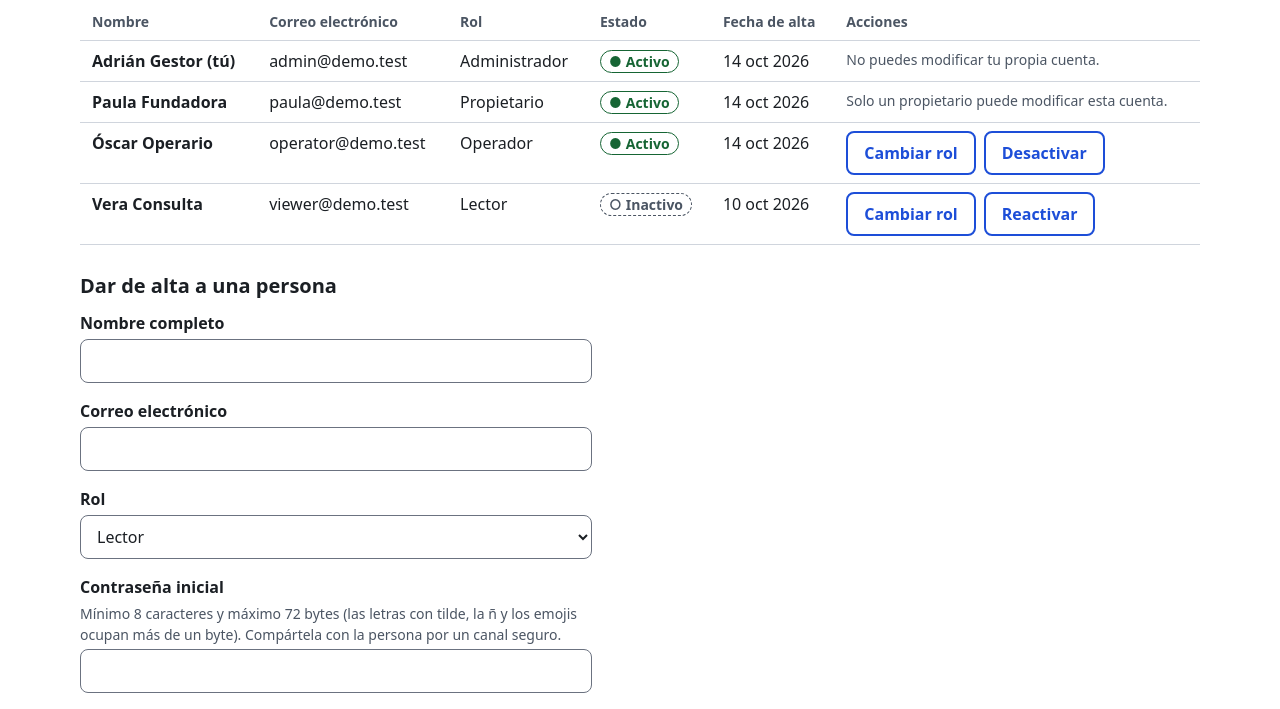
Test: TeamPage: adding a member › creates a member with a normalized email and shows them in the list
(page scrolled)
expect the table named "Personas de tu empresa" is shown: met, box 80,3 -> 1200,245
Type "  Ana López " into the field labelled "Nombre completo".
click(336, 361); type("  Ana López ")  # box 80,339 -> 592,383
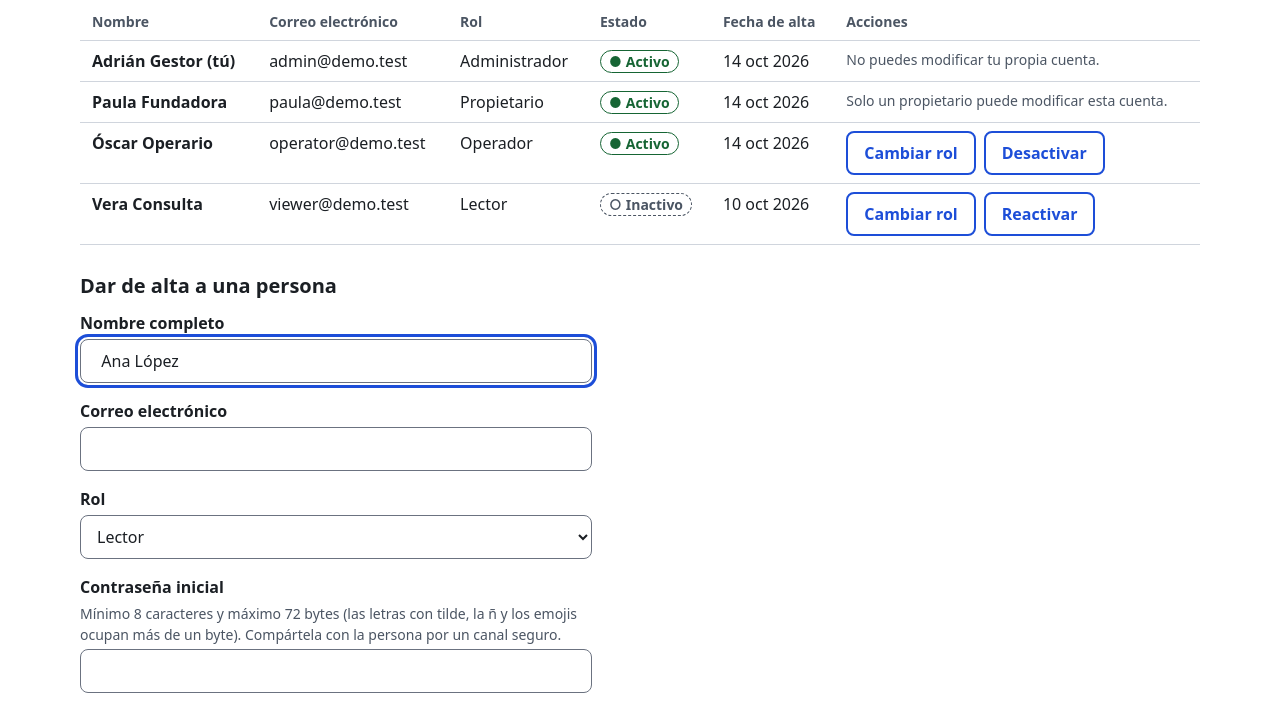
Type "  Ana.Lopez@Demo.TEST " into the field labelled "Correo electrónico".
click(336, 449); type("  Ana.Lopez@Demo.TEST ")  # box 80,427 -> 592,471
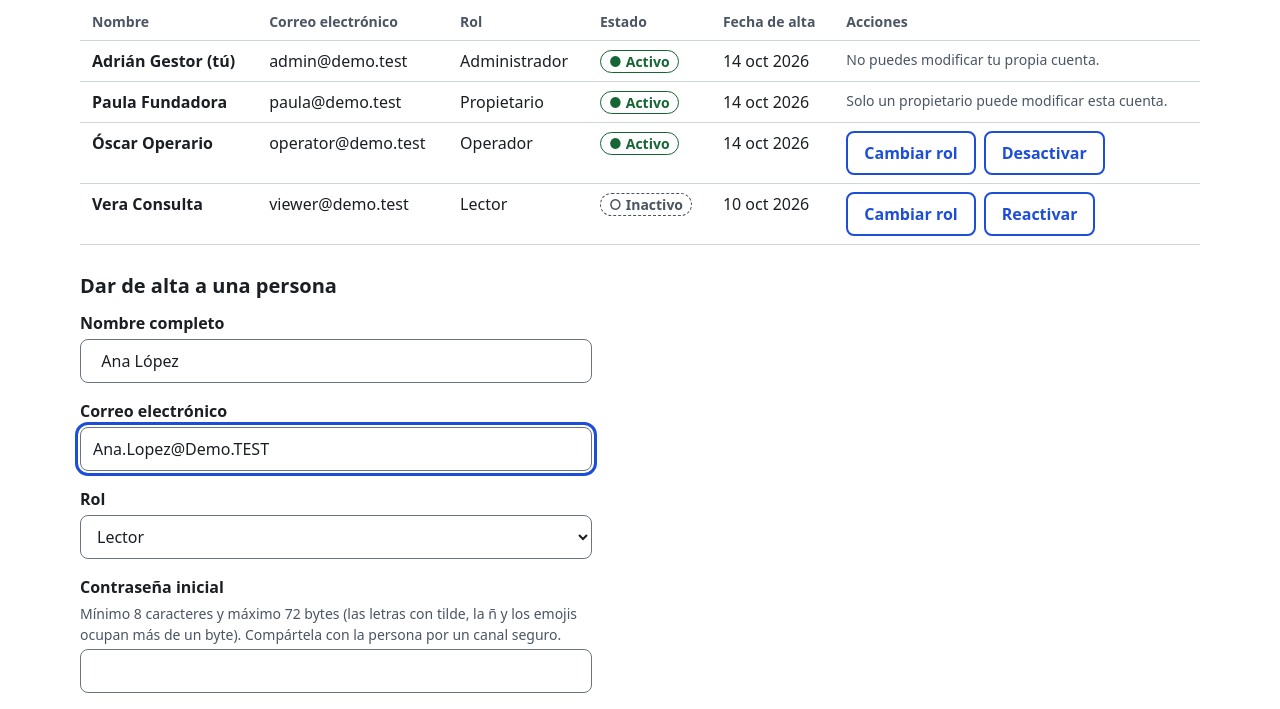
Select "Operador" in the dropdown labelled "Rol" at (336, 537), box 80,515 -> 592,559
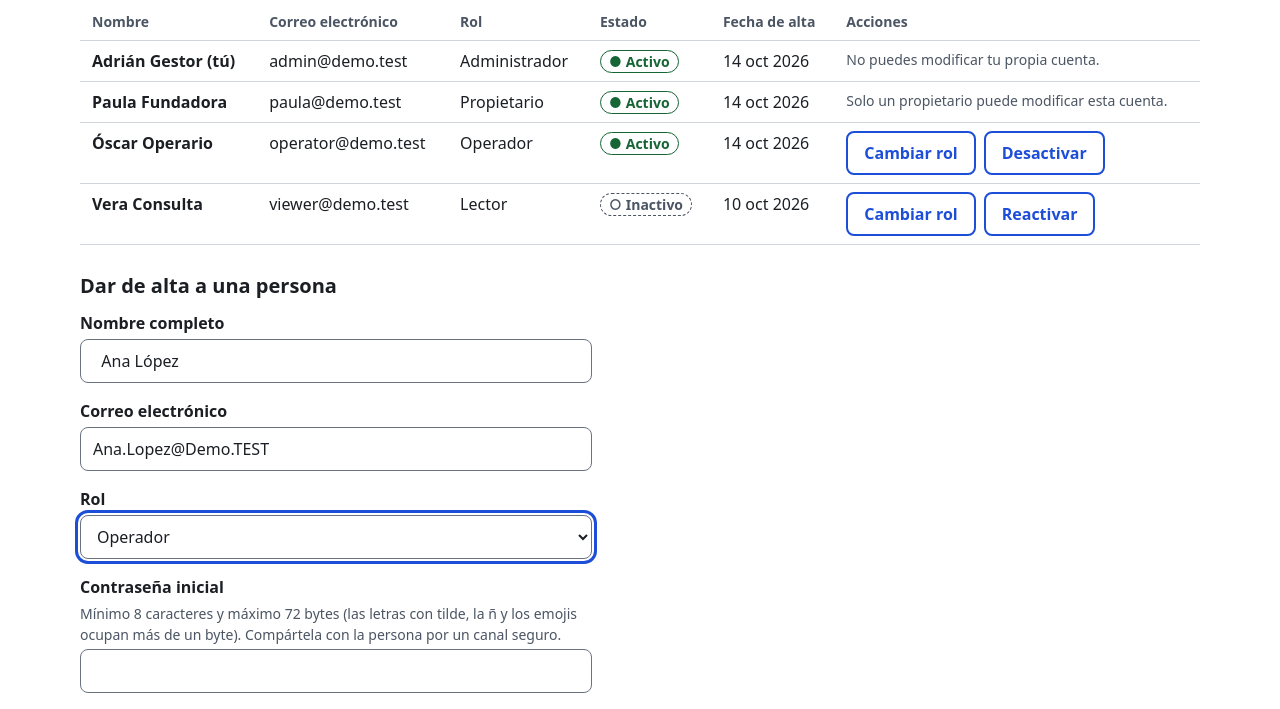
Type "segura-123" into the password field labelled "Contraseña inicial".
click(336, 671); type("segura-123")  # box 80,649 -> 592,693
(page scrolled)
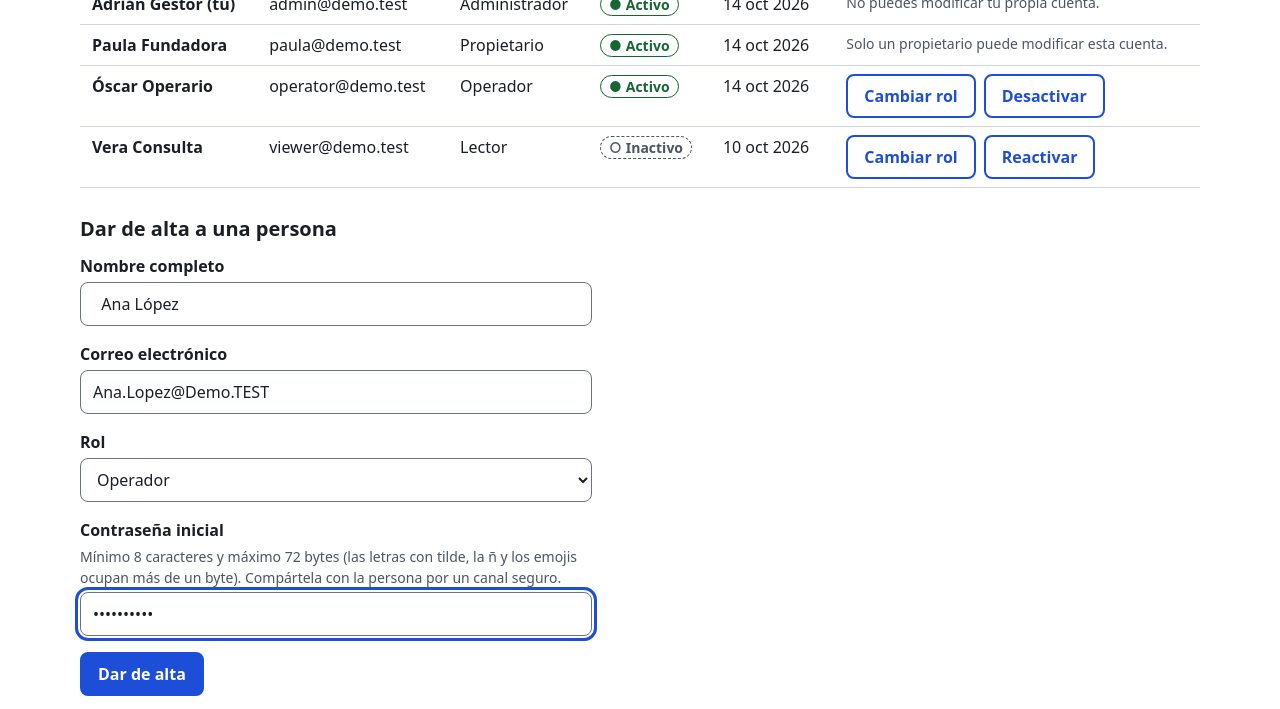
Click the button "Dar de alta".
click(142, 674)  # box 80,652 -> 204,696
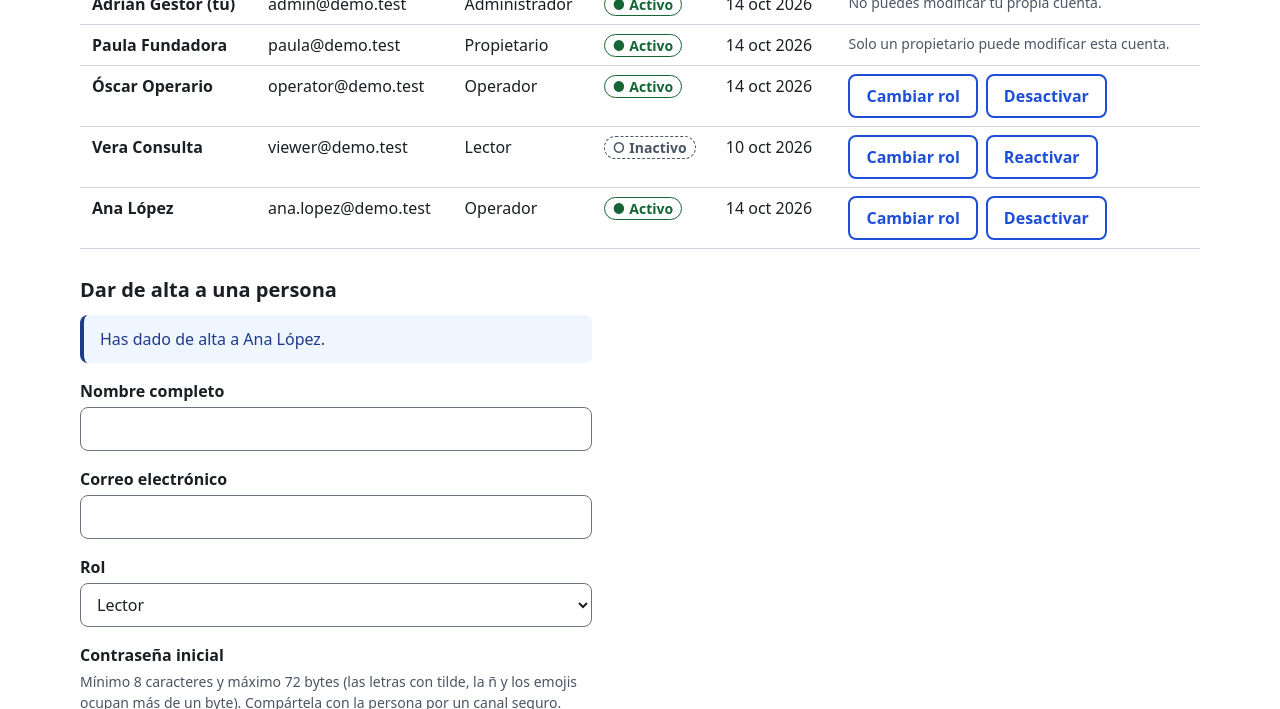
expect the text "Has dado de alta a Ana López." is shown: met, box 80,315 -> 592,363
expect the field labelled "Nombre completo" is empty: met, box 80,407 -> 592,451
